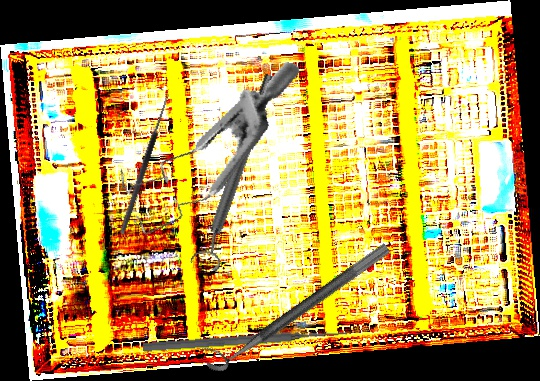Fixation Ring: (197, 228, 392, 377), (187, 70, 288, 273)
Hook Surgical: (112, 87, 172, 235)
Pusher: (142, 326, 348, 355)
Speculum: (105, 25, 302, 264)
